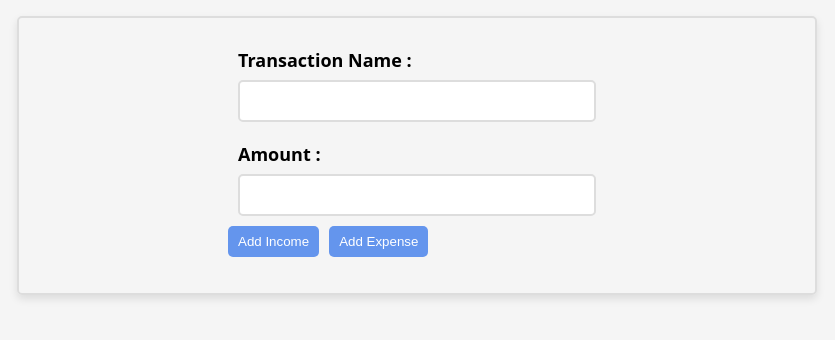
Test: rejects an amount of -1
Type "Salary" into the field labelled "Transaction Name :".
click(417, 101); type("Salary")  # box [238, 80, 596, 122]
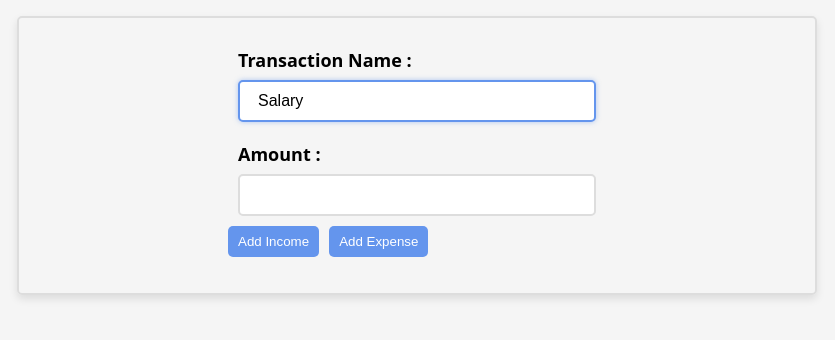
Type "-1" into the number field labelled "Amount :".
click(417, 195); type("-1")  # box [238, 174, 596, 216]
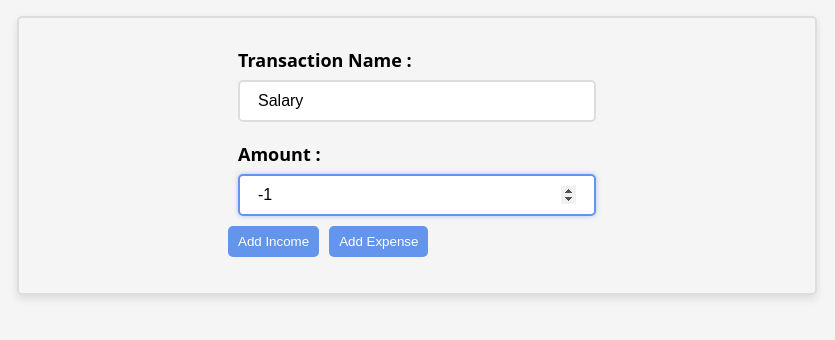
Click the button "Add Income".
click(274, 242)  # box [228, 226, 319, 257]
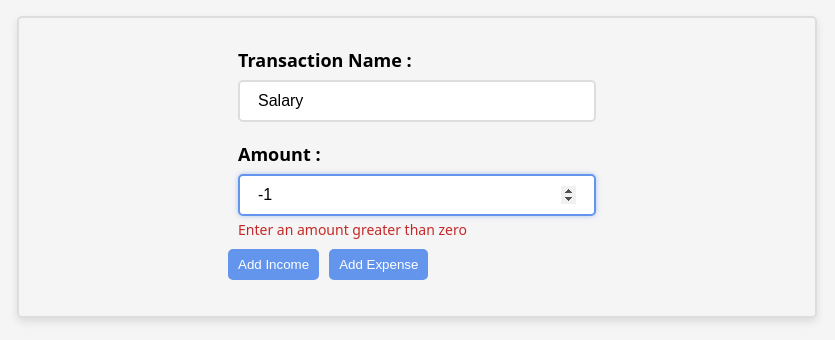
Check: the text "Enter an amount greater than zero" is shown, box [238, 220, 467, 239]
